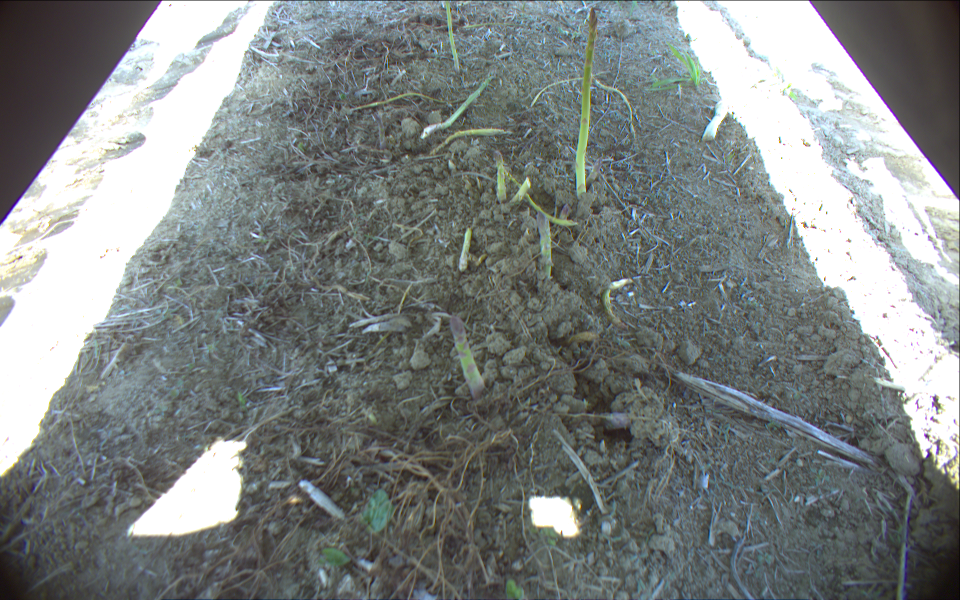aspa: (421, 63, 499, 139), (503, 169, 578, 227), (575, 6, 597, 195), (449, 312, 483, 399), (530, 71, 612, 106), (597, 80, 638, 134), (347, 92, 451, 113), (431, 128, 509, 154), (700, 92, 734, 143), (604, 279, 633, 329), (444, 1, 461, 72), (536, 211, 551, 277), (510, 177, 531, 205), (495, 149, 505, 204), (460, 227, 471, 273)
